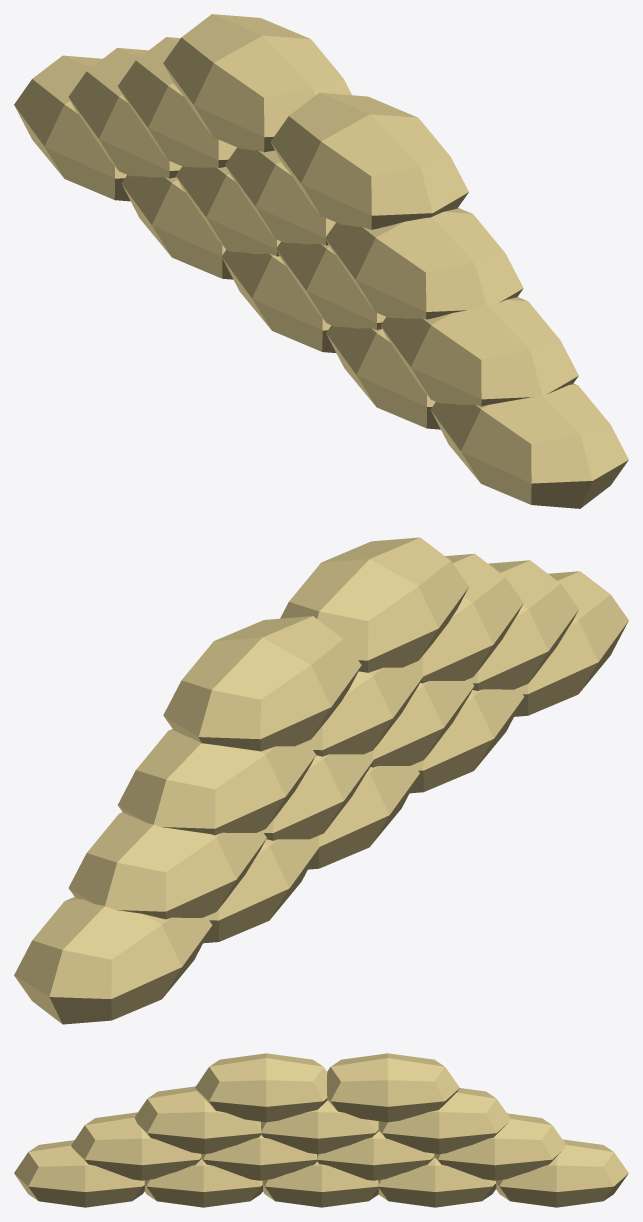
File: Sandbagwall2.fbx
3 views of the same model, one above another, from view 1: azimuth 30°, elevation 25°; view 2: azimuth 150°, elevation 25°; view 3: azimuth 270°, elevation 25° (orthographic). The views are drawn at different scales.
Parts seen in each view (by area): view 1: Sandbag.001; view 2: Sandbag.001; view 3: Sandbag.001.
Part boxes in pixels (x1,y1,x2,y2): Sandbag.001: (14,14,628,508); Sandbag.001: (14,537,628,1024); Sandbag.001: (14,1053,628,1207).
Size of the model in its own units: 81.74 by 145 by 559.
